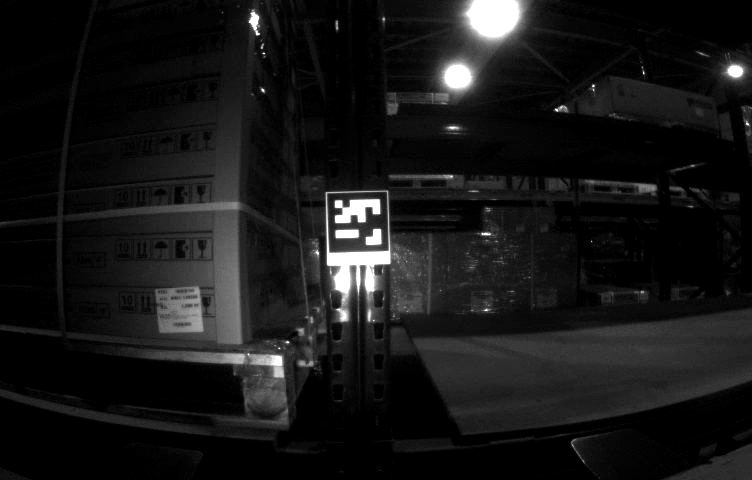True Barcode: (154, 286, 203, 333)
